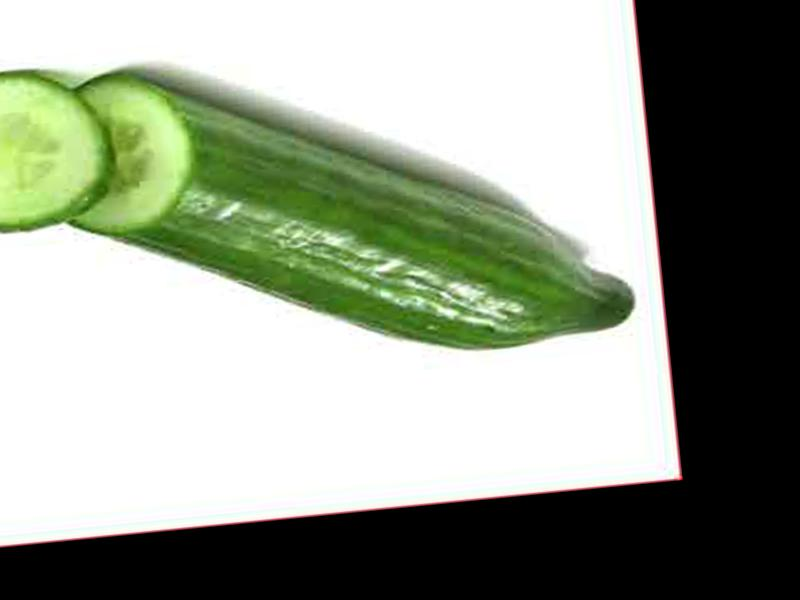Cucumber: (44, 24, 638, 389)
